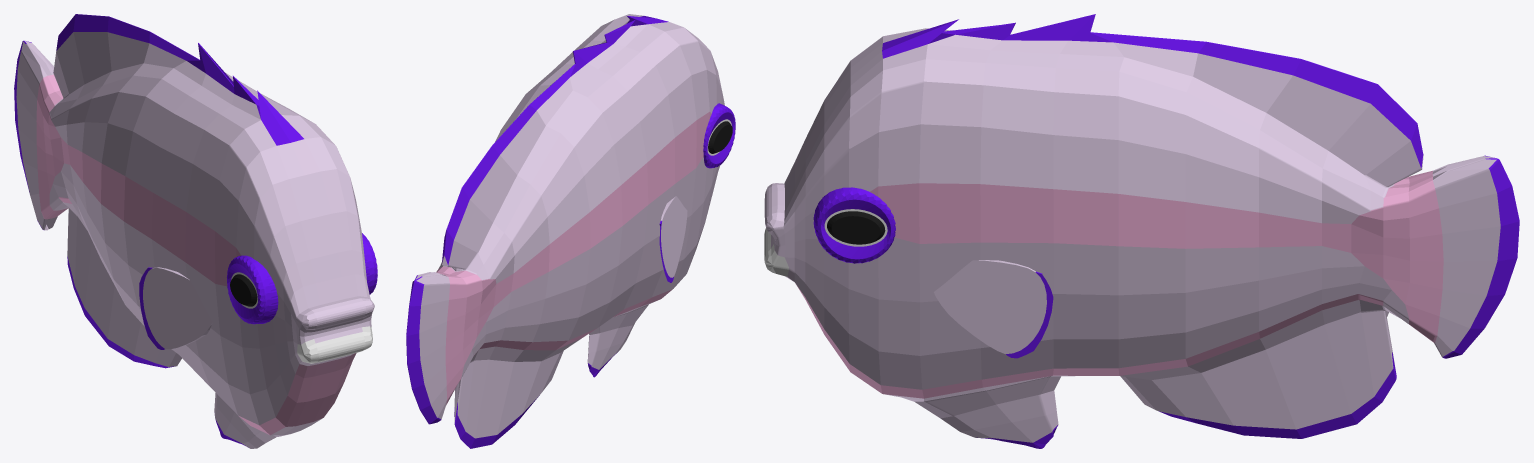
File: model_Purple_Fish.fbx
3 renders of one model, left to right at view 1: azimuth 30°, elevation 25°; view 2: azimuth 150°, elevation 25°; view 3: azimuth 270°, elevation 25°, orthographic. The views are drawn at different scales.
Parts seen in each view (by area): view 1: purplefish; view 2: purplefish; view 3: purplefish.
Part boxes in pixels (x1,y1,x2,y2): purplefish: (14, 14, 377, 448); purplefish: (406, 14, 735, 448); purplefish: (764, 14, 1519, 448).
Bounding box in the file's own units: 28.57 × 65.93 × 104.
